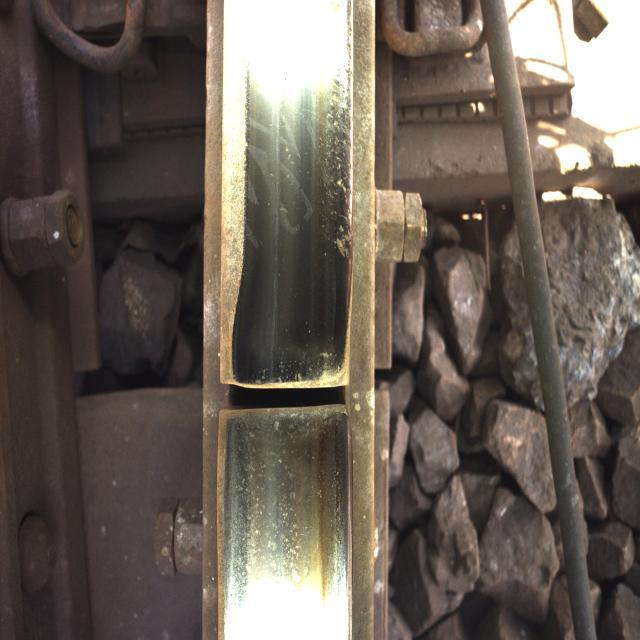spalling: (188, 322, 376, 460)
